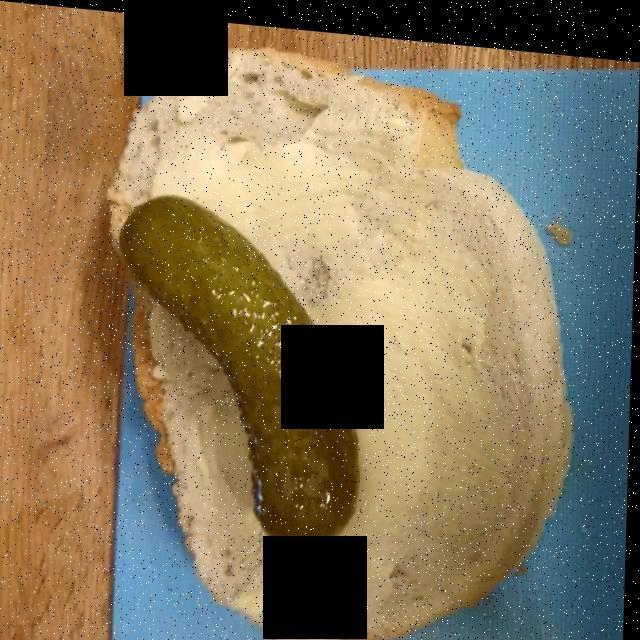bread: (116, 49, 569, 640)
butter: (138, 121, 494, 623)
cucumber-pickled: (124, 178, 359, 536)
